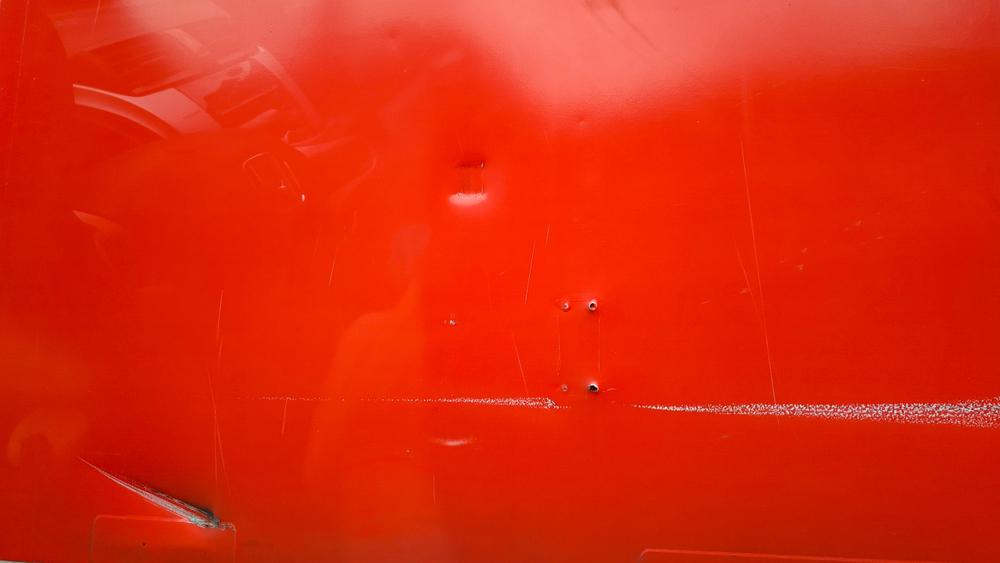dent: (0, 0, 539, 561)
scratch: (432, 392, 1000, 432)
